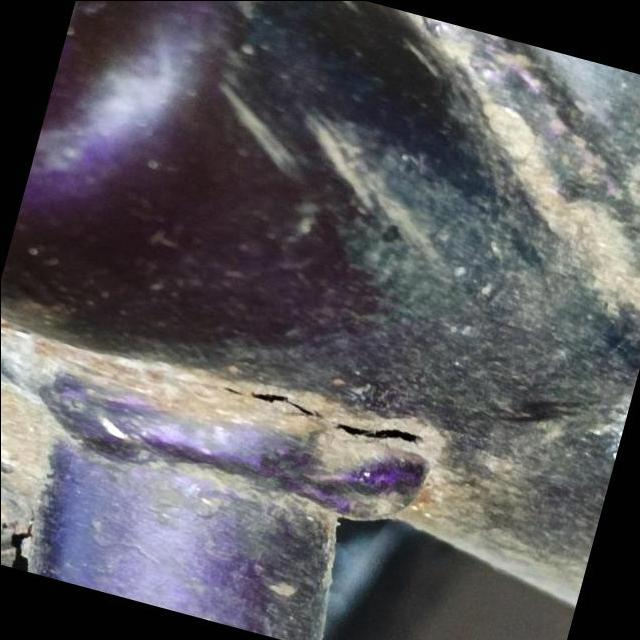defect: (218, 386, 431, 447)
